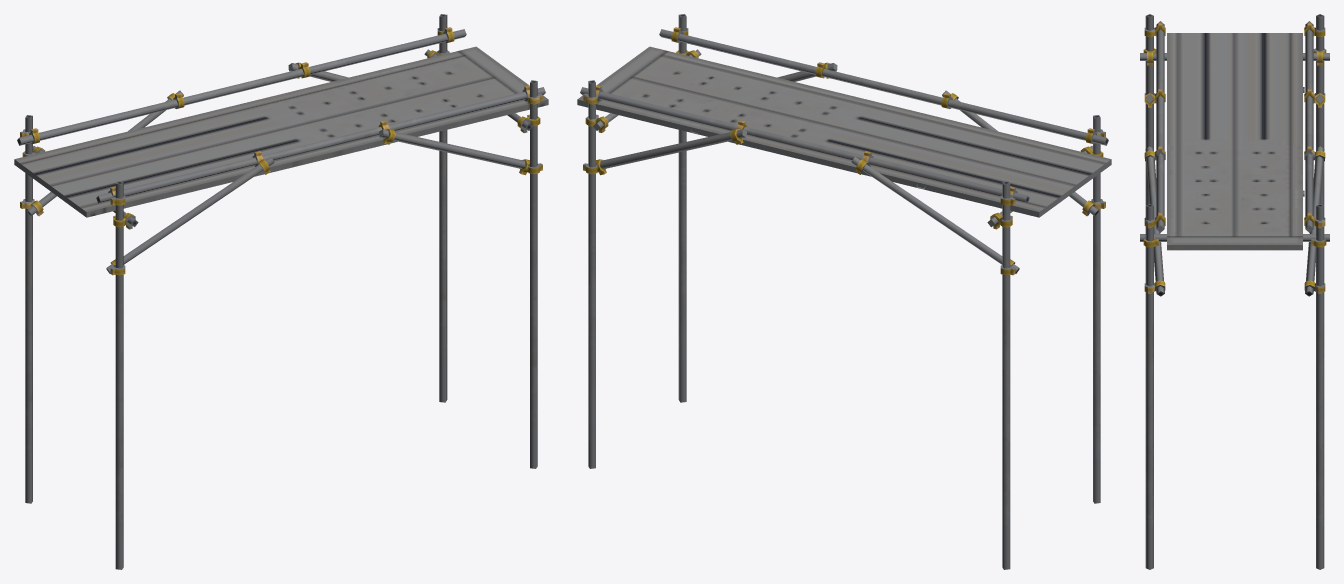
File: objects_un_t07scaffolding04.gltf
3 renders of one model, left to right at view 1: azimuth 30°, elevation 25°; view 2: azimuth 150°, elevation 25°; view 3: azimuth 270°, elevation 25°, orthographic. The views are drawn at different scales.
Visible parts, largest first — view 1: objects_un_t07scaffolding04_mesh_shape:objects_un_t07scaffol; view 2: objects_un_t07scaffolding04_mesh_shape:objects_un_t07scaffol; view 3: objects_un_t07scaffolding04_mesh_shape:objects_un_t07scaffol.
Boxes of the visible parts, x1,y1,x2,y2 form: objects_un_t07scaffolding04_mesh_shape:objects_un_t07scaffol: (14, 14, 548, 569); objects_un_t07scaffolding04_mesh_shape:objects_un_t07scaffol: (577, 14, 1111, 569); objects_un_t07scaffolding04_mesh_shape:objects_un_t07scaffol: (1140, 14, 1329, 569).
Bounding box in the file's own units: 8.3 × 6.62 × 3.14.
1 material, 1 textured.
